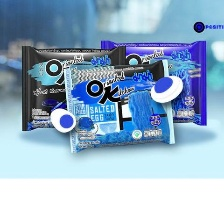snack: (56, 52, 180, 156), (95, 34, 212, 130), (16, 40, 130, 135)
